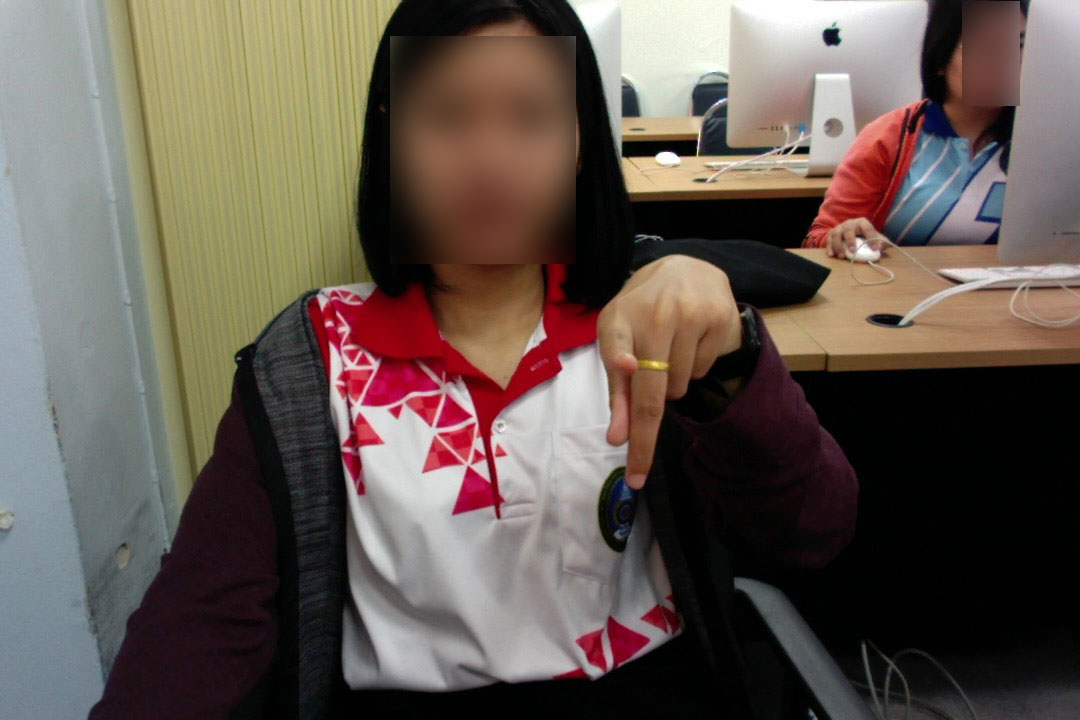por: (596, 248, 747, 497)
